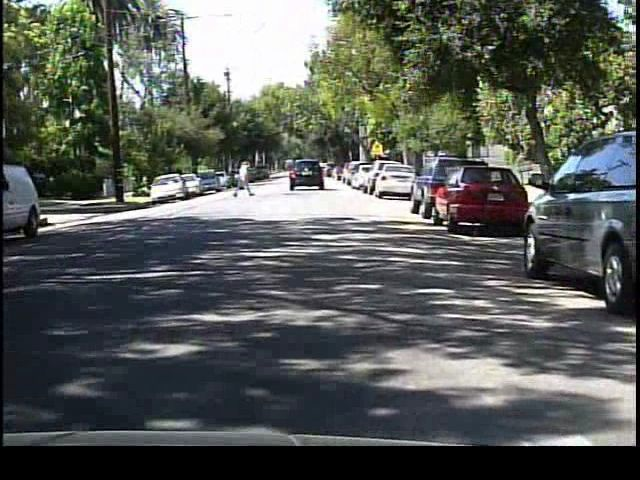person: (234, 158, 257, 202)
